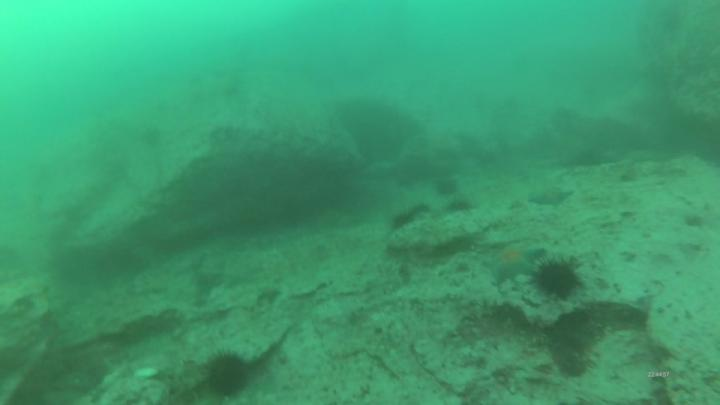echinus: (199, 353, 259, 399), (533, 257, 582, 305), (387, 209, 419, 235), (435, 176, 460, 201)
holothurian: (546, 299, 654, 379)
starfish: (481, 246, 549, 287), (529, 183, 575, 211)
